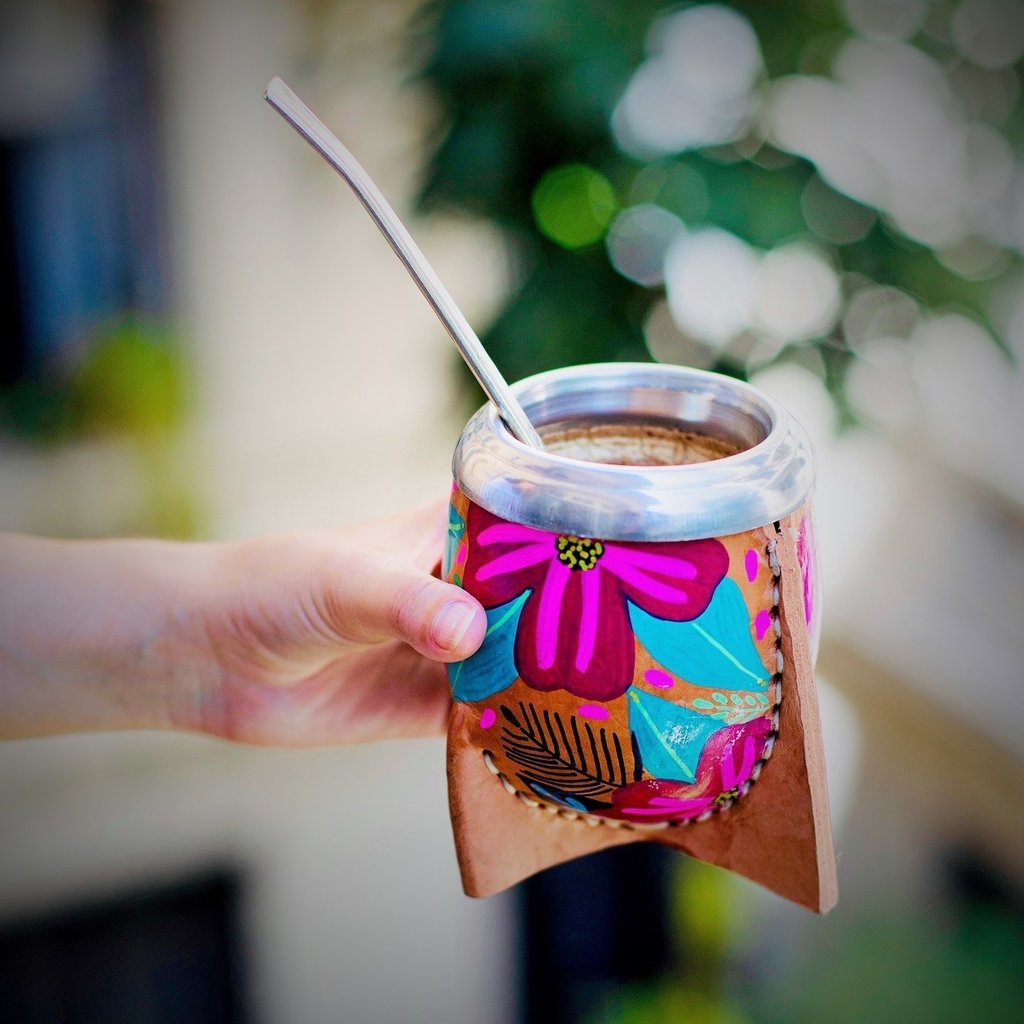madera: (416, 344, 872, 948)
mate: (418, 346, 874, 950)
